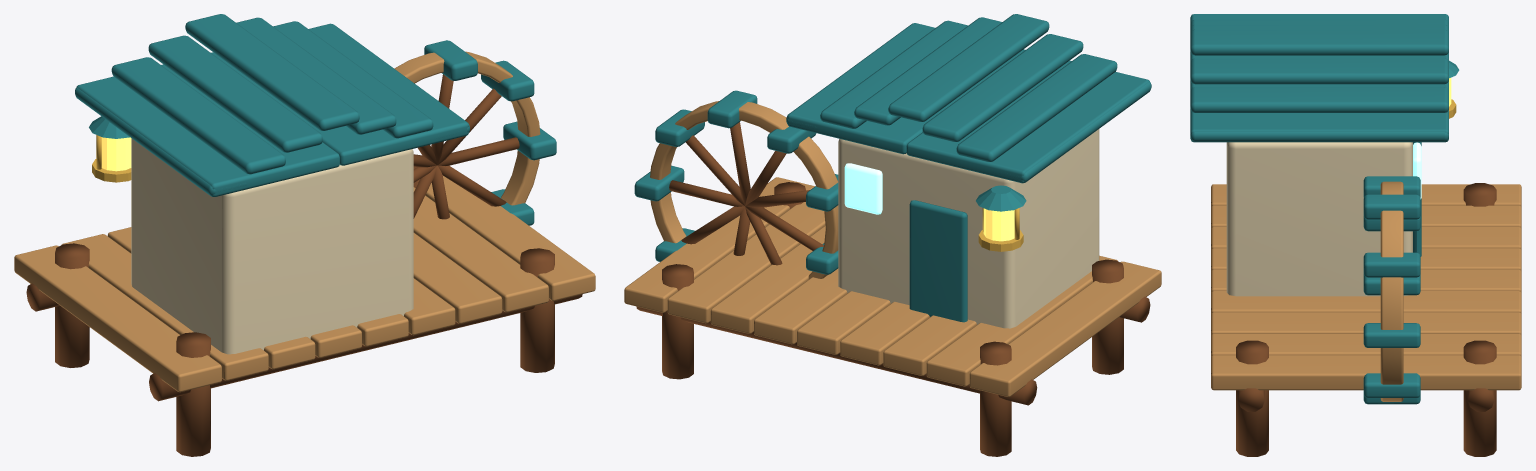
Rendered from harbour-waterwheel.glb.
3 renders of one model, left to right at view 1: azimuth 30°, elevation 25°; view 2: azimuth 150°, elevation 25°; view 3: azimuth 270°, elevation 25°, orthographic. The views are drawn at different scales.
Parts seen in each view (by area): view 1: Structure, AnimatedDetail; view 2: Structure, AnimatedDetail; view 3: Structure, AnimatedDetail.
Part boxes in pixels (<box>): Structure: <box>14,14,595,456</box>; AnimatedDetail: <box>394,40,556,225</box>; Structure: <box>624,14,1161,456</box>; AnimatedDetail: <box>634,90,838,279</box>; Structure: <box>1190,14,1521,456</box>; AnimatedDetail: <box>1363,176,1420,404</box>.
Size of the model in its own units: 4.84 by 3.29 by 3.2.
